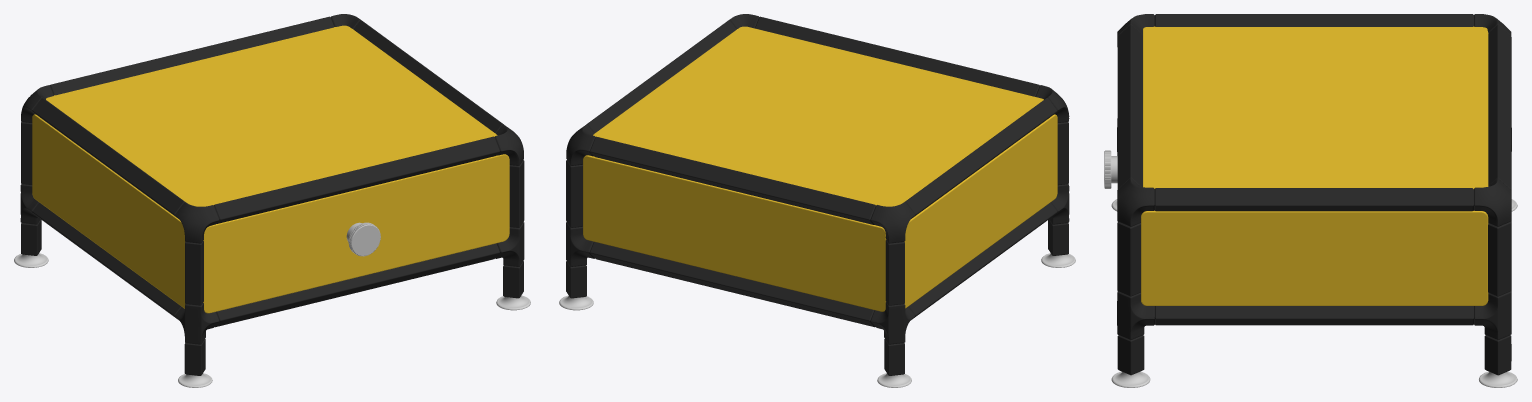
3 renders of one model, left to right at view 1: azimuth 30°, elevation 25°; view 2: azimuth 150°, elevation 25°; view 3: azimuth 270°, elevation 25°, orthographic. The views are drawn at different scales.
Parts seen in each view (by area): view 1: 374x329x79; view 2: 374x329x79; view 3: 374x329x79.
Part boxes in pixels (x1=…): 374x329x79: x1=14, y1=14, x2=530, y2=387; 374x329x79: x1=559, y1=14, x2=1075, y2=387; 374x329x79: x1=1104, y1=14, x2=1517, y2=387.
Bounding box in the file's own units: 0.4639 × 0.2184 × 0.4256.
